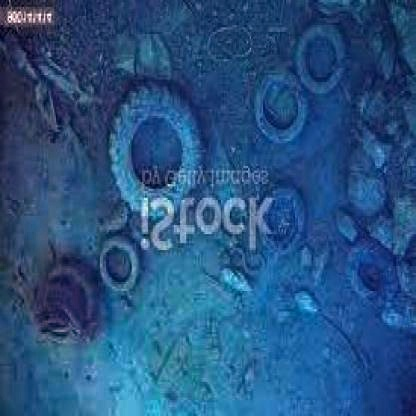tire: (106, 77, 203, 214), (35, 255, 109, 341), (251, 68, 310, 150), (287, 16, 351, 91), (253, 180, 313, 252), (346, 237, 402, 309), (89, 230, 145, 298)
